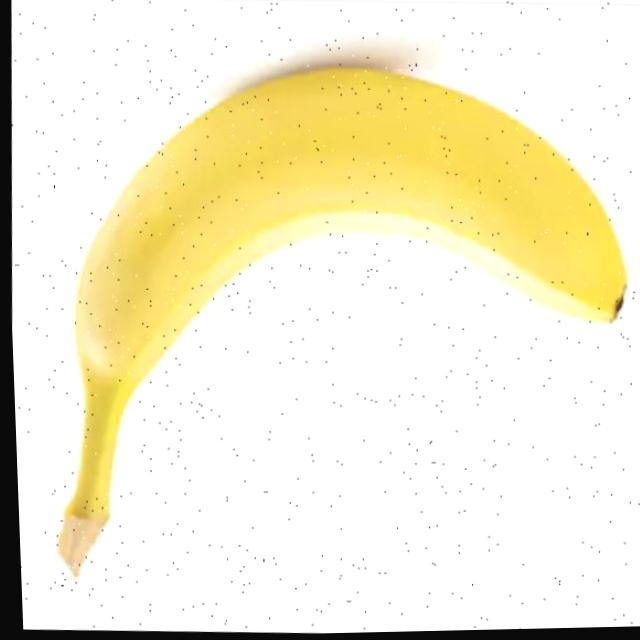Banana: (36, 52, 640, 603)
